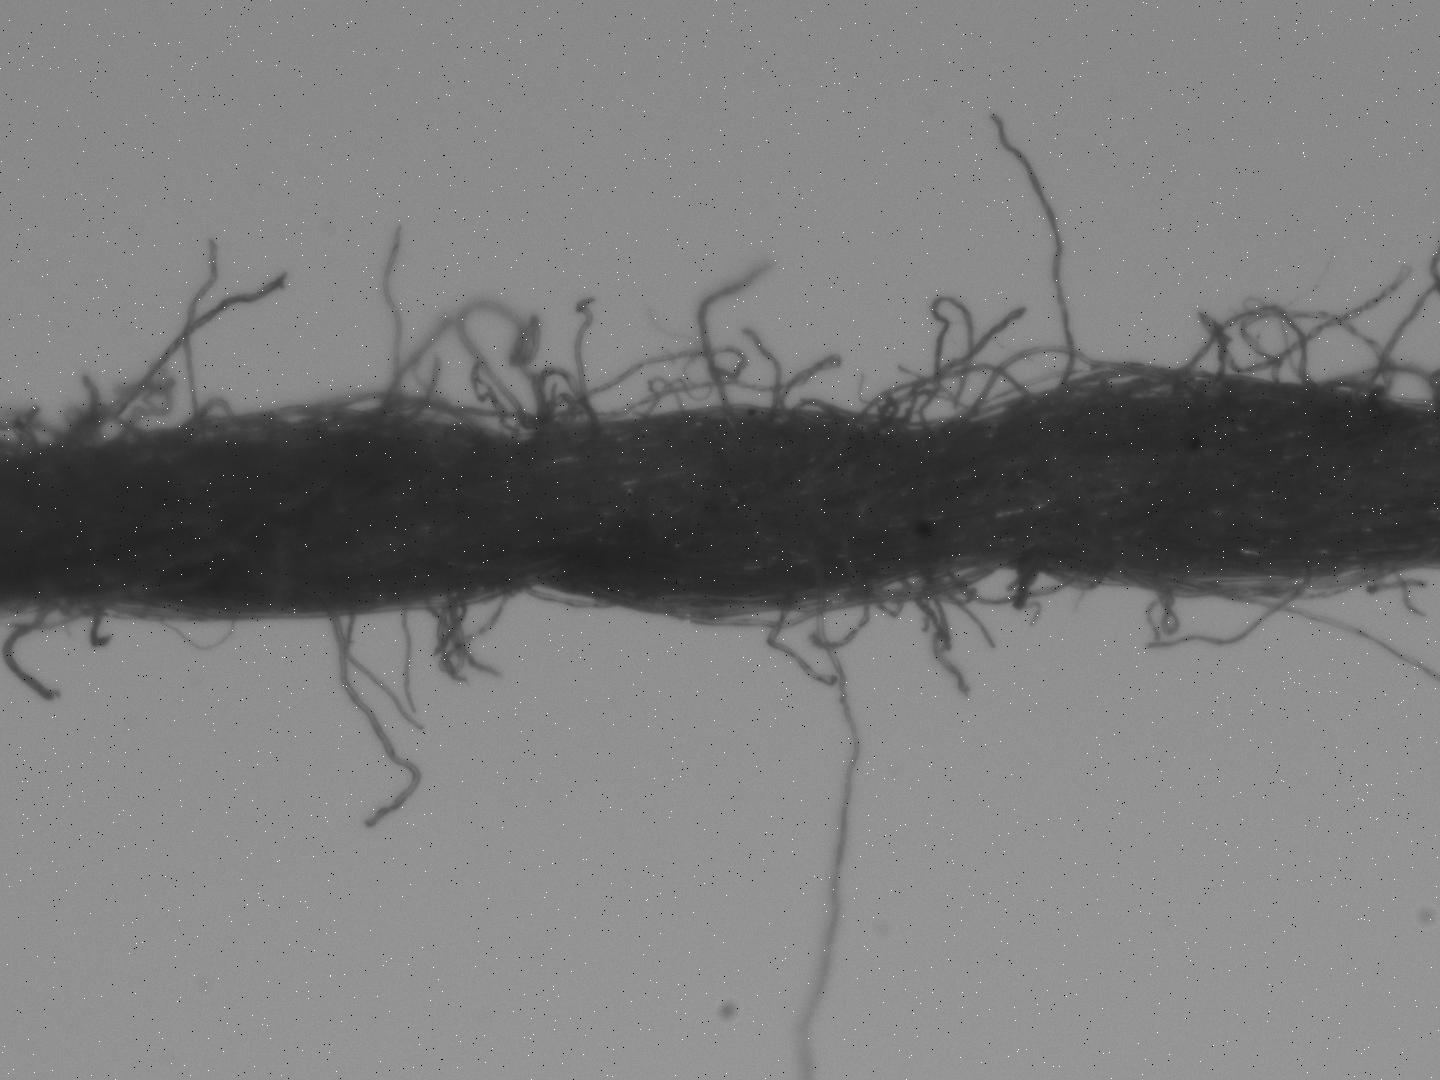loop_fiber: (1178, 304, 1321, 389), (862, 363, 1027, 429), (967, 346, 1104, 419), (681, 591, 862, 633), (1132, 568, 1357, 600), (946, 557, 1075, 606), (323, 394, 468, 428), (524, 582, 609, 611), (178, 395, 246, 430), (787, 393, 845, 417)
protruding_fiber: (81, 271, 286, 442), (994, 116, 1070, 398), (336, 611, 417, 826), (693, 261, 772, 404), (1, 608, 56, 704)
